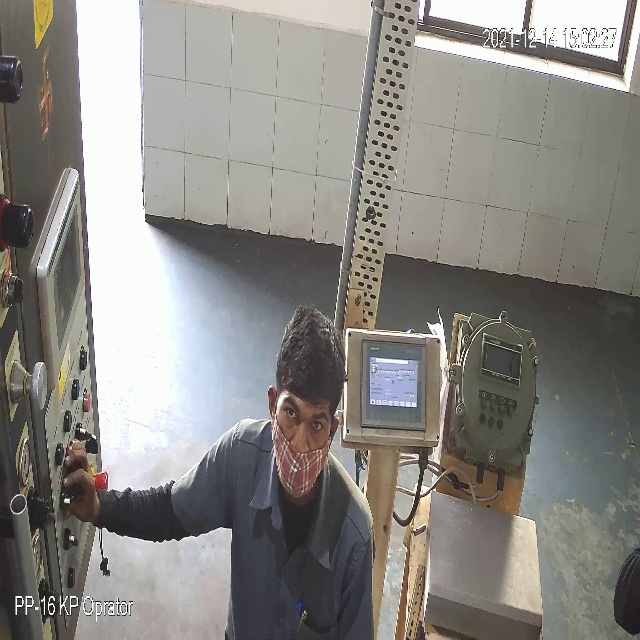Sin_gafas: (280, 397, 330, 444)
